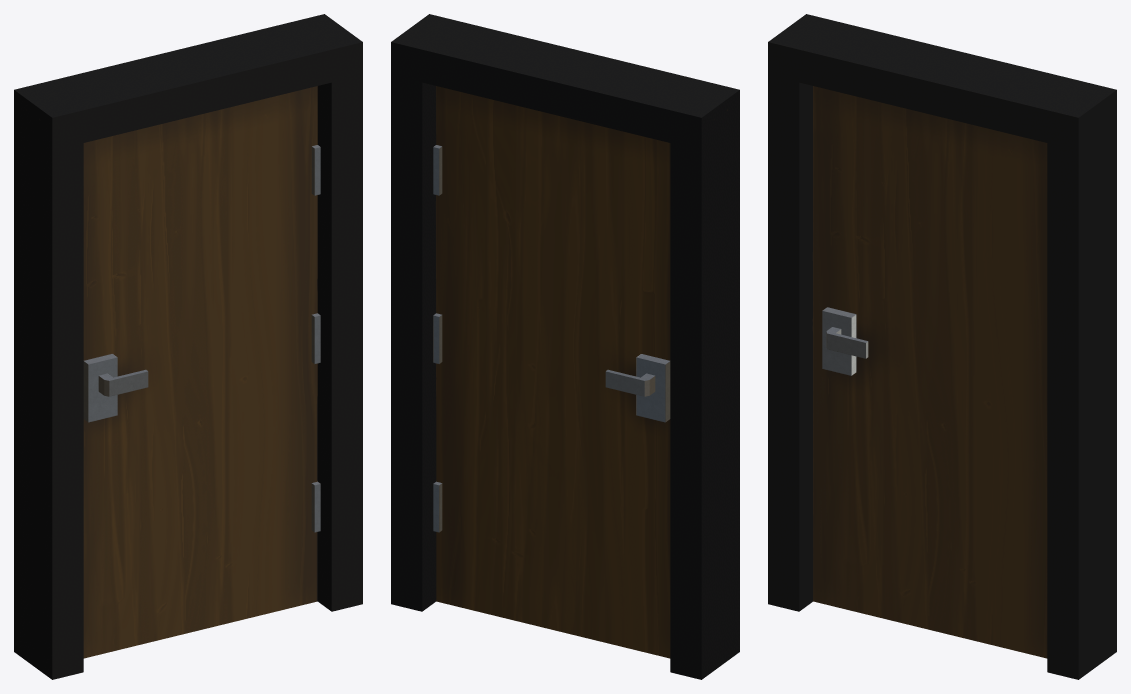
The model's file is Door_001.fbx.
The picture shows the model from 3 angles, left to right: view 1: azimuth 30°, elevation 25°; view 2: azimuth 150°, elevation 25°; view 3: azimuth 330°, elevation 25°; orthographic projection.
Parts seen in each view (by area): view 1: Door_001; view 2: Door_001; view 3: Door_001.
Boxes of the visible parts, bbox=[...] form: Door_001: bbox=[14, 14, 362, 679]; Door_001: bbox=[391, 14, 739, 679]; Door_001: bbox=[768, 14, 1116, 679].
Size of the model in its own units: 135 by 234 by 28.91.
Materials: 1 (1 with a texture image).
